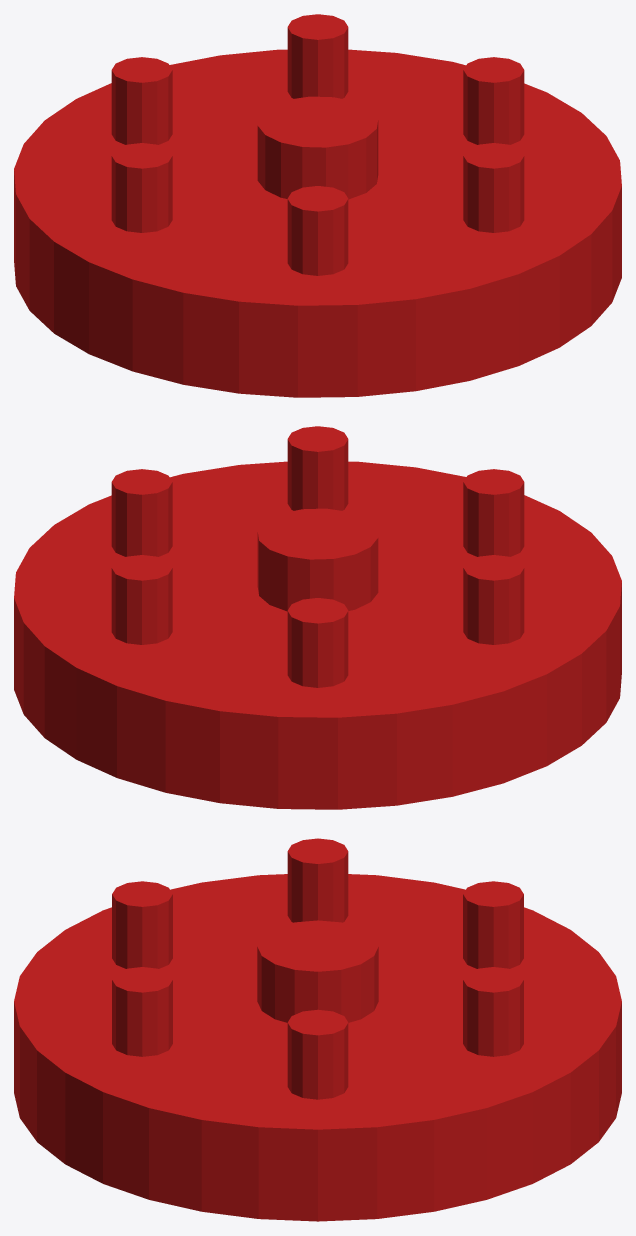
The model's file is centrifuge_rotor_new.obj.
The picture shows the model from 3 angles, top to bottom: view 1: azimuth 30°, elevation 25°; view 2: azimuth 150°, elevation 25°; view 3: azimuth 270°, elevation 25°; orthographic projection.
Bounding box in the file's own units: 3 × 0.85 × 3.
